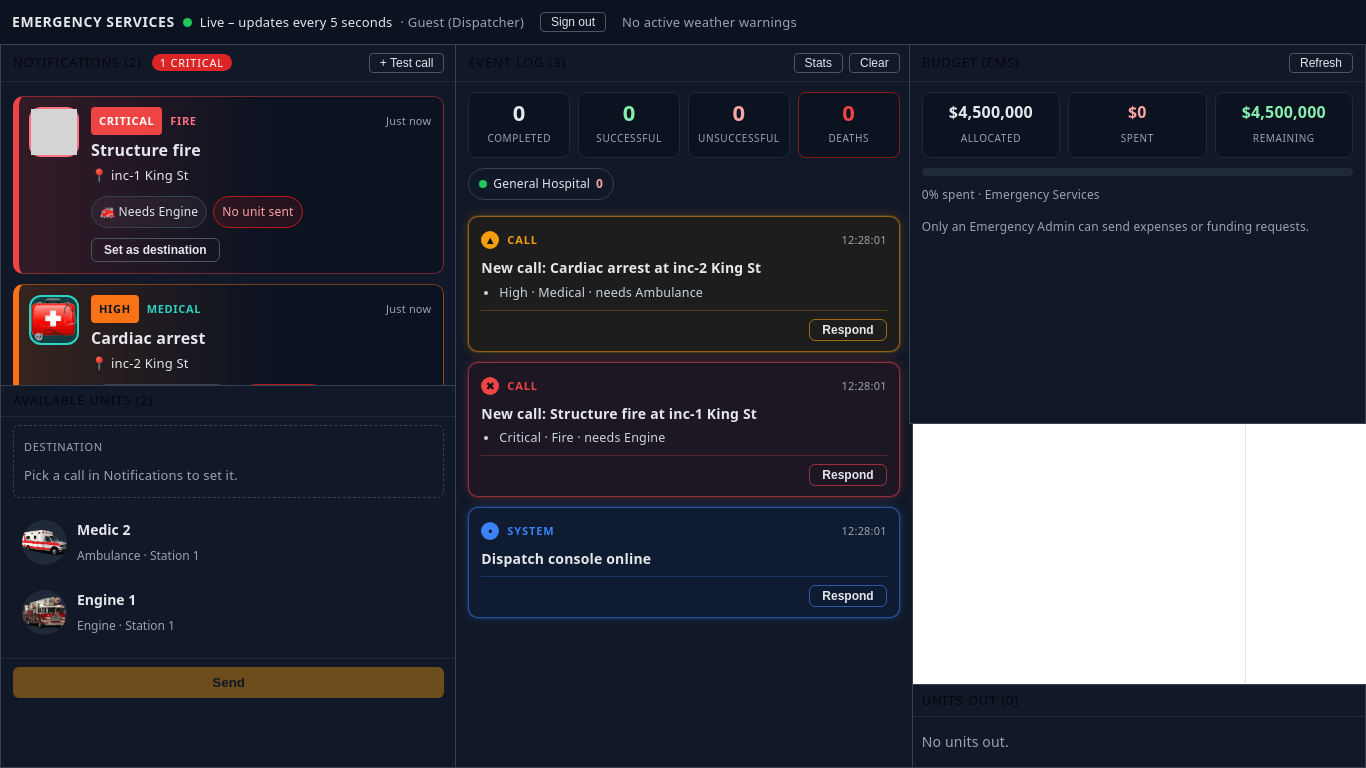
Scenario: Dispatch console (talking to the API) › shows the API error and sends nothing when the assignment is refused
Click the button "Set as destination".
click(155, 250)  # box x1=91 y1=238 x2=220 y2=262
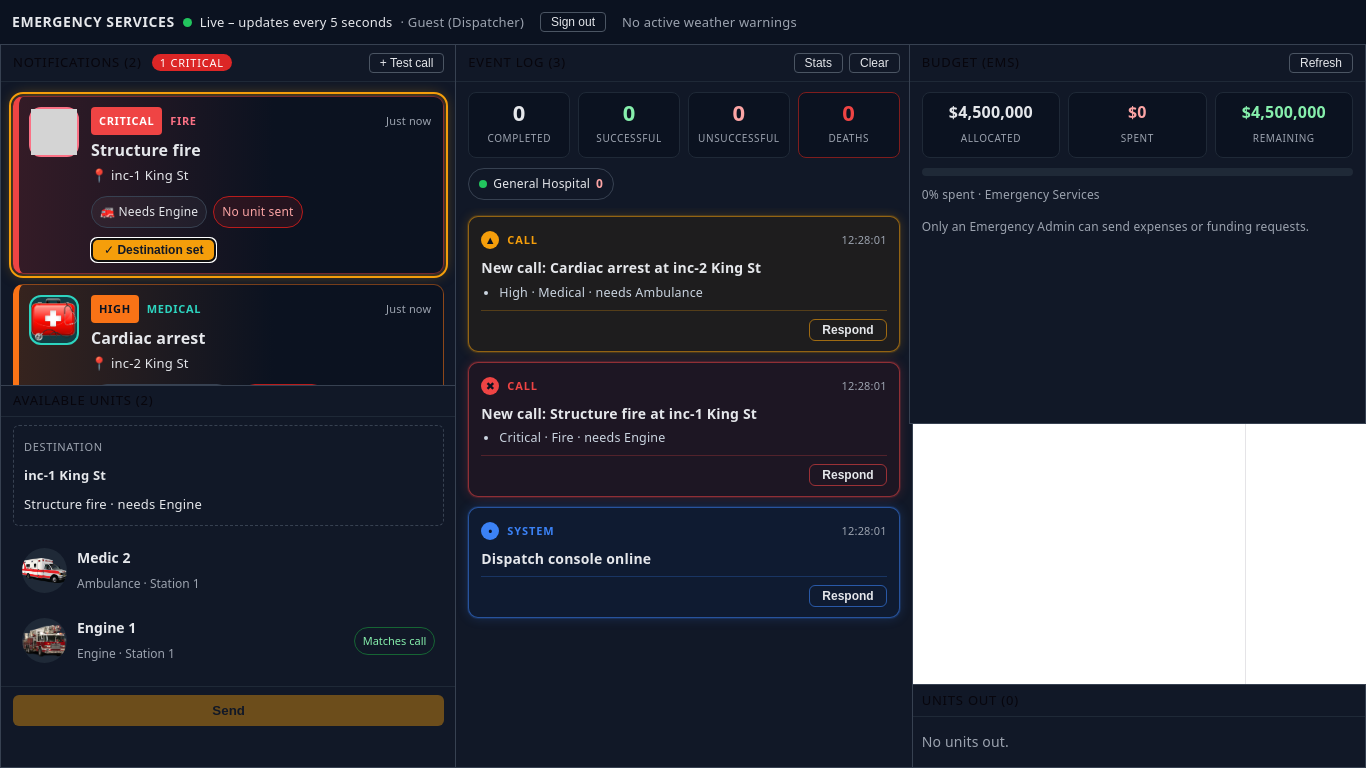
Click the button "Engine 1 Engine · Station 1 Matches call".
click(44, 641)  # box x1=13 y1=608 x2=444 y2=674
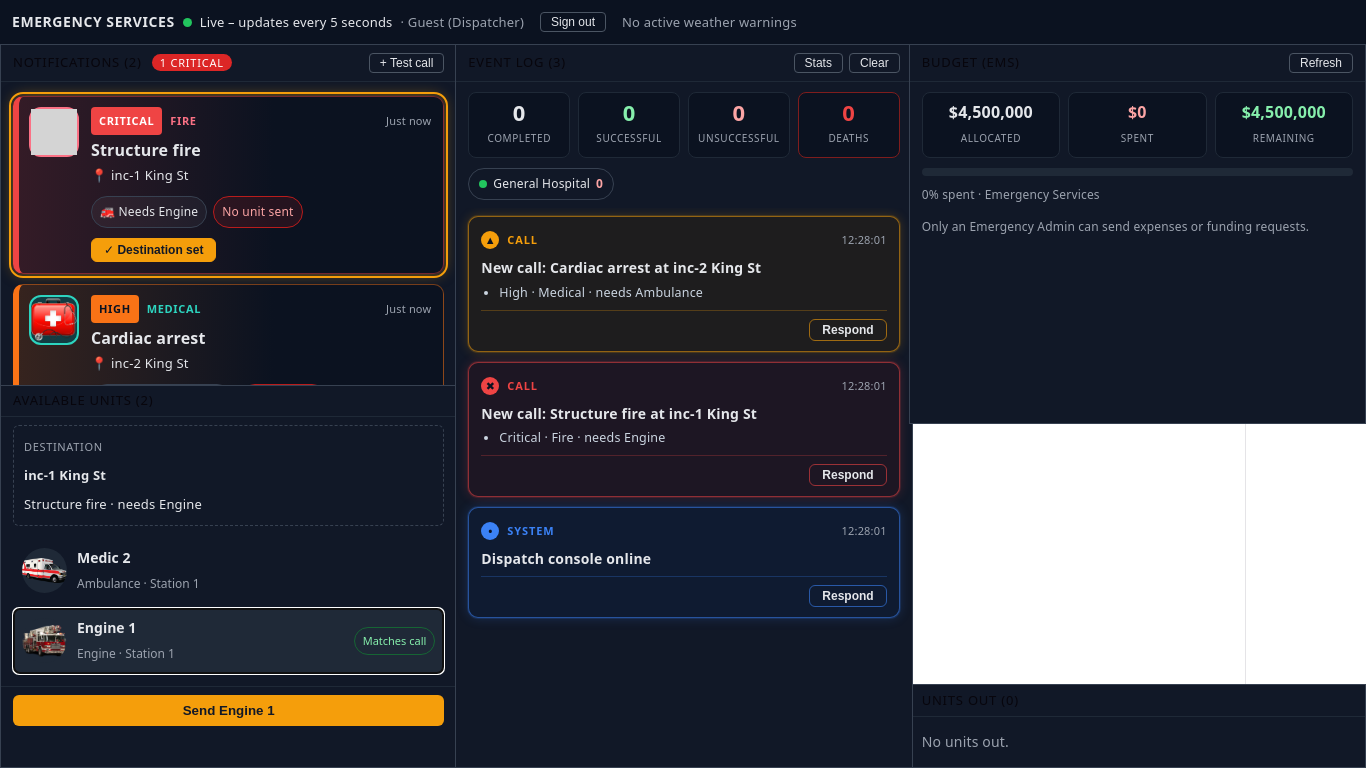
Click the button "Send Engine 1".
click(229, 710)  # box x1=13 y1=695 x2=444 y2=726
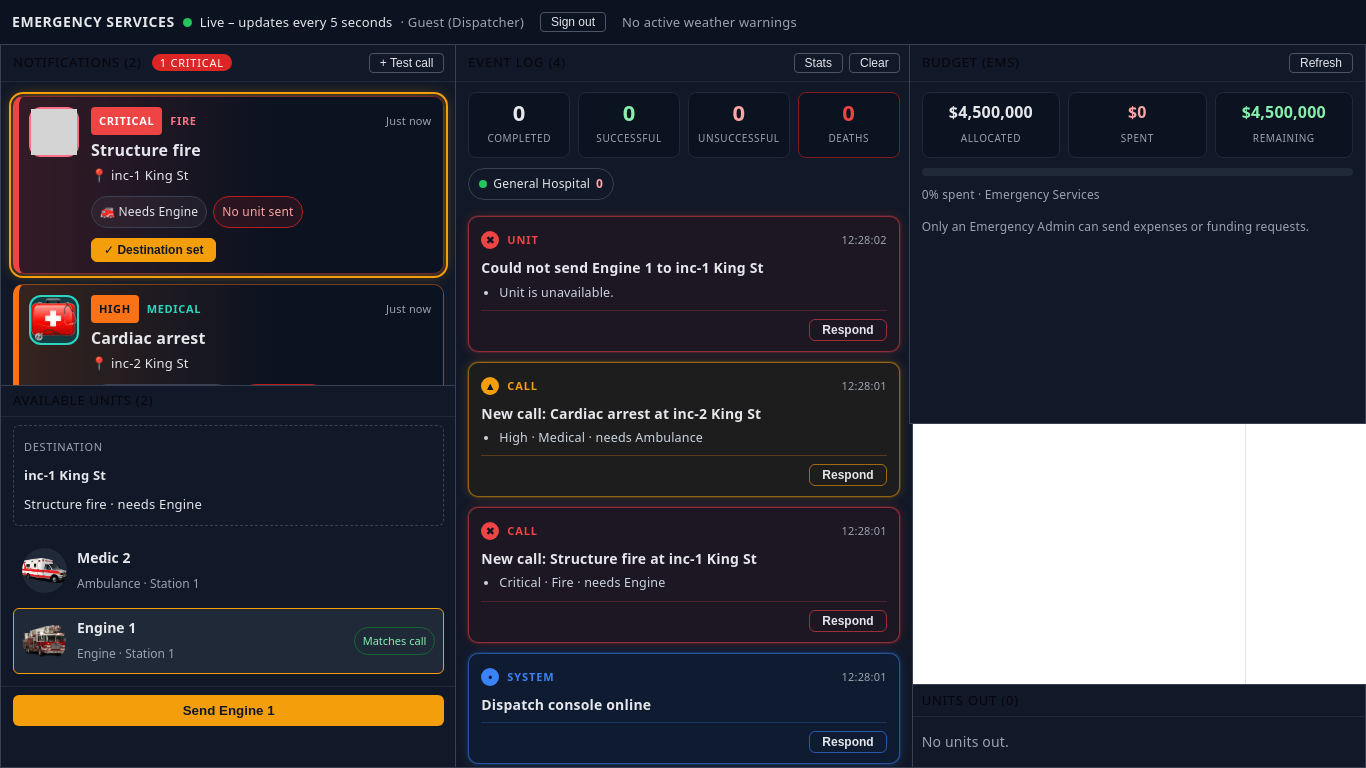
Expected: the heading "Units out (0)" is shown, x1=922 y1=693 x2=1019 y2=708
Expected: the text "Could not send Engine 1 to inc-1 King St" is shown, x1=481 y1=258 x2=764 y2=277
Expected: the list item "Unit is unavailable." is shown, x1=499 y1=284 x2=614 y2=301
